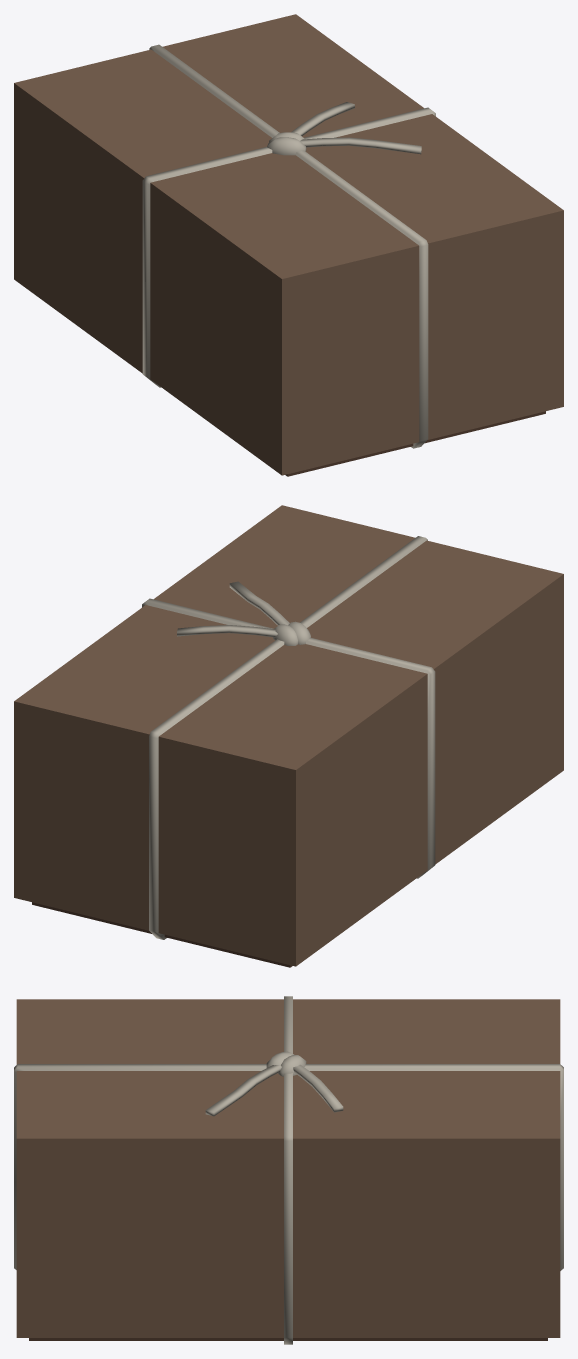
The model's file is S_LittleBox.fbx.
3 renders of one model, top to bottom at view 1: azimuth 30°, elevation 25°; view 2: azimuth 150°, elevation 25°; view 3: azimuth 270°, elevation 25°, orthographic.
Visible parts, largest first — view 1: S_LittleBox; view 2: S_LittleBox; view 3: S_LittleBox.
Boxes of the visible parts, x1,y1,x2,y2 form: S_LittleBox: [14, 14, 563, 476]; S_LittleBox: [14, 505, 563, 967]; S_LittleBox: [14, 996, 563, 1344].
Size of the model in its own units: 14.07 by 10.23 by 22.89.
